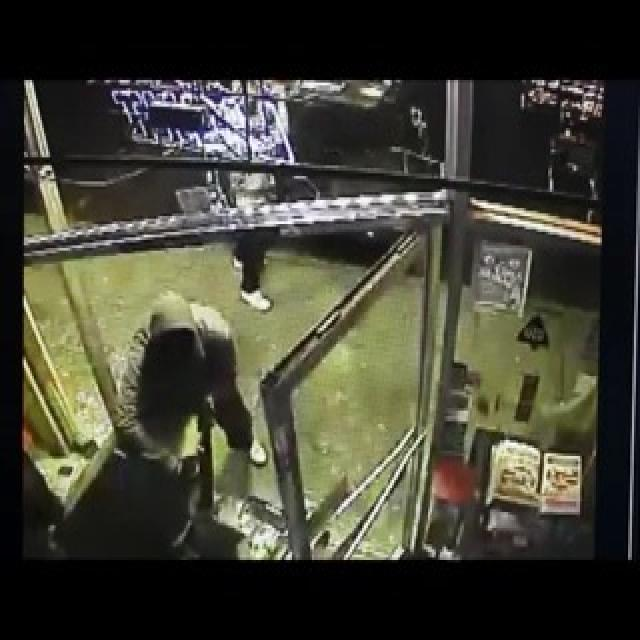thief: (131, 286, 232, 397)
